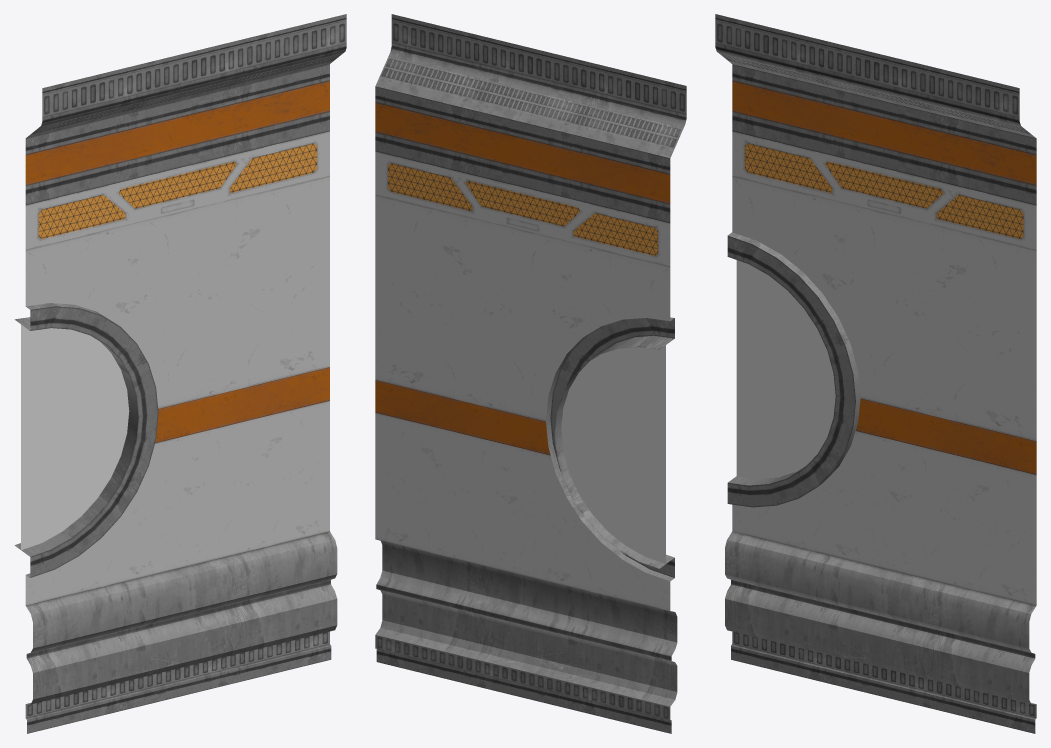
Rendered from Wall_WindowRight.fbx.
The picture shows the model from 3 angles, left to right: view 1: azimuth 30°, elevation 25°; view 2: azimuth 150°, elevation 25°; view 3: azimuth 330°, elevation 25°; orthographic projection. The views are drawn at different scales.
Parts seen in each view (by area): view 1: Wall_WindowRight, Wall_WindowRight_Glass; view 2: Wall_WindowRight, Wall_WindowRight_Glass; view 3: Wall_WindowRight, Wall_WindowRight_Glass.
Part boxes in pixels (x1,y1,x2,y2): Wall_WindowRight: (14,14,346,733); Wall_WindowRight_Glass: (21,324,129,550); Wall_WindowRight: (375,14,686,733); Wall_WindowRight_Glass: (561,345,665,563); Wall_WindowRight: (715,14,1036,733); Wall_WindowRight_Glass: (736,260,835,478).
Size of the model in its own units: 4.25 by 8.76 by 0.6781.
